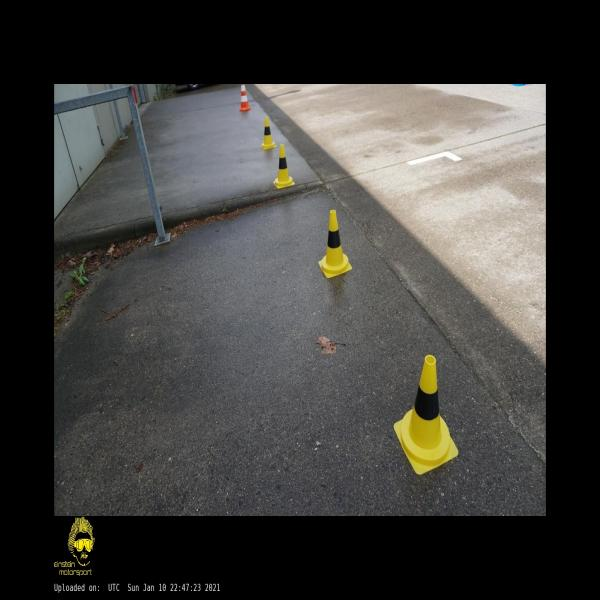large_orange_cone: (239, 84, 251, 112)
yellow_cone: (393, 354, 458, 474), (319, 209, 352, 278), (273, 144, 295, 189), (261, 117, 276, 150)
